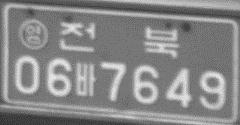0: (14, 54, 40, 95)
4: (164, 67, 192, 109)
6: (132, 63, 159, 105), (45, 58, 73, 97)
7: (100, 60, 127, 102)
9: (199, 69, 226, 111)
바: (74, 60, 96, 97)
영: (17, 18, 49, 51)
전북_D: (59, 20, 180, 56)
